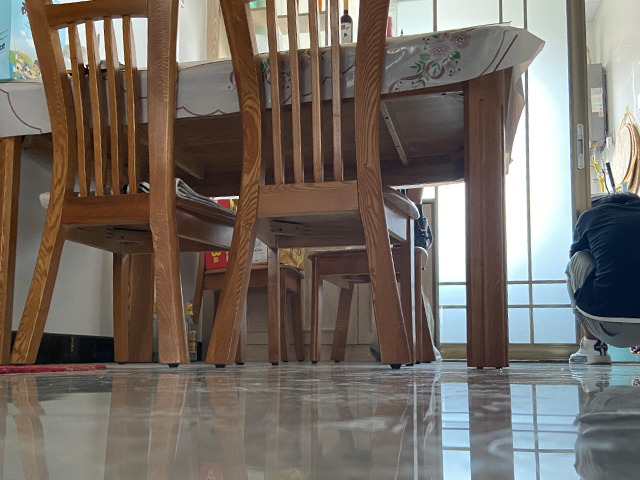carpet: (1, 364, 108, 375)
stool: (8, 1, 240, 368), (206, 1, 422, 370), (305, 245, 430, 368), (191, 250, 307, 364)
table: (1, 23, 546, 371)
